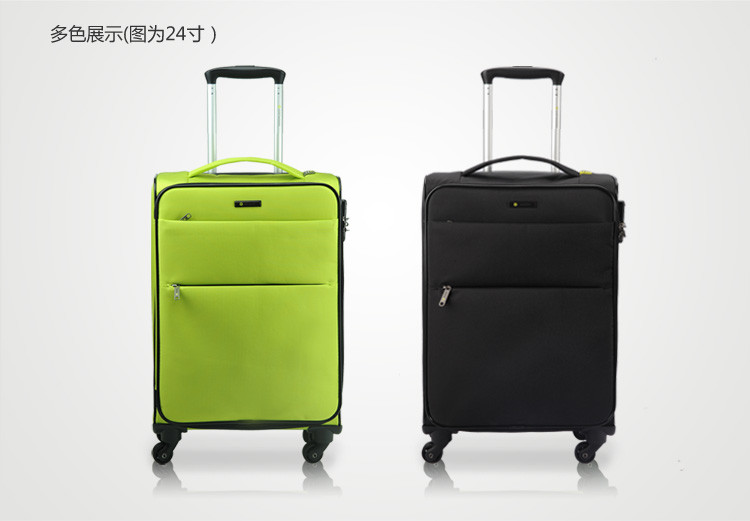luggage: (150, 65, 354, 464), (421, 66, 625, 462)
